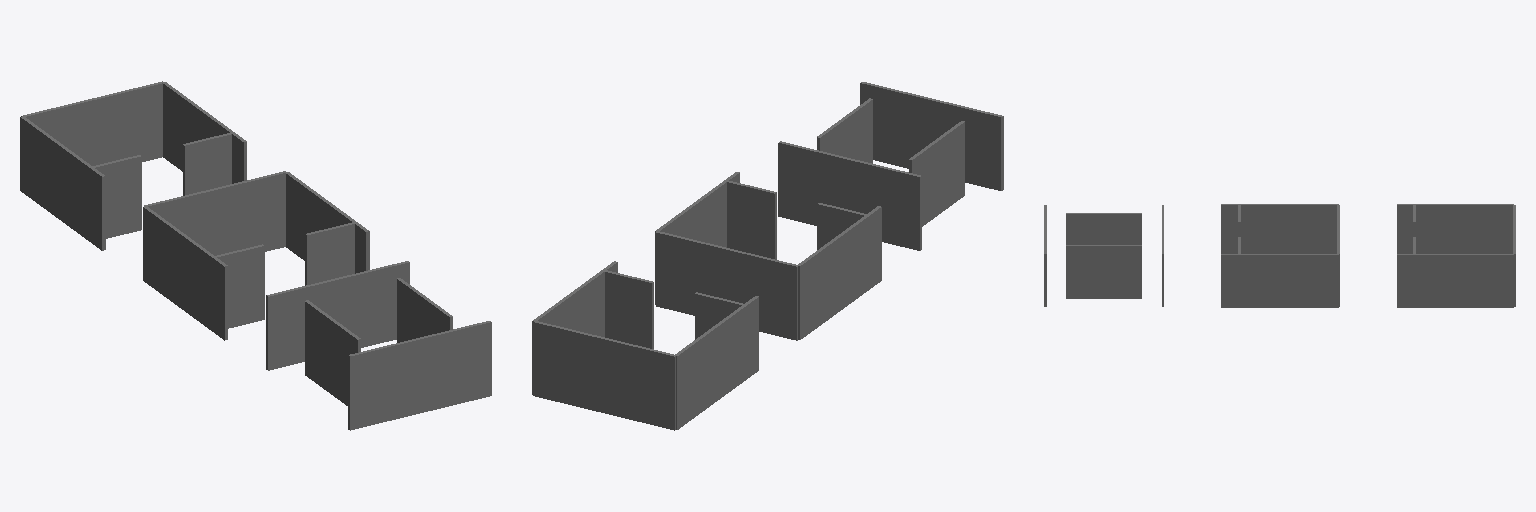
URDF robot description (HouseReconstructed):
<?xml version="1.0" encoding="UTF-8"?>
<robot name="HouseReconstructed">
  <!-- Base link (dummy, invisible, static) -->
  <link name="house_base">
    <inertial>
      <mass value="0"/>
      <inertia ixx="0" ixy="0" ixz="0" iyy="0" iyz="0" izz="0"/>
    </inertial>
  </link>

  <!-- Room 1: Walls (2m x 2m, centered at (0, 0)) -->
  <link name="room1_north_wall">
    <visual>
      <geometry>
        <box size="2.0 0.05 1.0"/>
      </geometry>
      <material name="grey">
        <color rgba="0.5 0.5 0.5 1"/>
      </material>
    </visual>
    <collision>
      <geometry>
        <box size="2.0 0.05 1.0"/>
      </geometry>
    </collision>
    <inertial>
      <mass value="0"/>
      <inertia ixx="0" ixy="0" ixz="0" iyy="0" iyz="0" izz="0"/>
    </inertial>
  </link>
  <joint name="room1_north_wall_joint" type="fixed">
    <parent link="house_base"/>
    <child link="room1_north_wall"/>
    <origin xyz="0 1 0.5" rpy="0 0 0"/>
  </joint>
  <link name="room1_south_wall">
    <visual>
      <geometry>
        <box size="2.0 0.05 1.0"/>
      </geometry>
      <material name="grey">
        <color rgba="0.5 0.5 0.5 1"/>
      </material>
    </visual>
    <collision>
      <geometry>
        <box size="2.0 0.05 1.0"/>
      </geometry>
    </collision>
    <inertial>
      <mass value="0"/>
      <inertia ixx="0" ixy="0" ixz="0" iyy="0" iyz="0" izz="0"/>
    </inertial>
  </link>
  <joint name="room1_south_wall_joint" type="fixed">
    <parent link="house_base"/>
    <child link="room1_south_wall"/>
    <origin xyz="0 -1 0.5" rpy="0 0 0"/>
  </joint>
  <link name="room1_west_wall_left">
    <visual>
      <geometry>
        <box size="0.7 0.05 1.0"/>
      </geometry>
      <material name="grey">
        <color rgba="0.5 0.5 0.5 1"/>
      </material>
    </visual>
    <collision>
      <geometry>
        <box size="0.7 0.05 1.0"/>
      </geometry>
    </collision>
    <inertial>
      <mass value="0"/>
      <inertia ixx="0" ixy="0" ixz="0" iyy="0" iyz="0" izz="0"/>
    </inertial>
  </link>
  <joint name="room1_west_wall_left_joint" type="fixed">
    <parent link="house_base"/>
    <child link="room1_west_wall_left"/>
    <origin xyz="-0.65 -0.3 0.5" rpy="0 0 1.57"/>
  </joint>
  <link name="room1_west_wall_right">
    <visual>
      <geometry>
        <box size="0.7 0.05 1.0"/>
      </geometry>
      <material name="grey">
        <color rgba="0.5 0.5 0.5 1"/>
      </material>
    </visual>
    <collision>
      <geometry>
        <box size="0.7 0.05 1.0"/>
      </geometry>
    </collision>
    <inertial>
      <mass value="0"/>
      <inertia ixx="0" ixy="0" ixz="0" iyy="0" iyz="0" izz="0"/>
    </inertial>
  </link>
  <joint name="room1_west_wall_right_joint" type="fixed">
    <parent link="house_base"/>
    <child link="room1_west_wall_right"/>
    <origin xyz="-0.65 0.3 0.5" rpy="0 0 1.57"/>
  </joint>
  <link name="room1_east_wall_left">
    <visual>
      <geometry>
        <box size="0.7 0.05 1.0"/>
      </geometry>
      <material name="grey">
        <color rgba="0.5 0.5 0.5 1"/>
      </material>
    </visual>
    <collision>
      <geometry>
        <box size="0.7 0.05 1.0"/>
      </geometry>
    </collision>
    <inertial>
      <mass value="0"/>
      <inertia ixx="0" ixy="0" ixz="0" iyy="0" iyz="0" izz="0"/>
    </inertial>
  </link>
  <joint name="room1_east_wall_left_joint" type="fixed">
    <parent link="house_base"/>
    <child link="room1_east_wall_left"/>
    <origin xyz="0.65 -0.3 0.5" rpy="0 0 1.57"/>
  </joint>
  <link name="room1_east_wall_right">
    <visual>
      <geometry>
        <box size="0.7 0.05 1.0"/>
      </geometry>
      <material name="grey">
        <color rgba="0.5 0.5 0.5 1"/>
      </material>
    </visual>
    <collision>
      <geometry>
        <box size="0.7 0.05 1.0"/>
      </geometry>
    </collision>
    <inertial>
      <mass value="0"/>
      <inertia ixx="0" ixy="0" ixz="0" iyy="0" iyz="0" izz="0"/>
    </inertial>
  </link>
  <joint name="room1_east_wall_right_joint" type="fixed">
    <parent link="house_base"/>
    <child link="room1_east_wall_right"/>
    <origin xyz="0.65 0.3 0.5" rpy="0 0 1.57"/>
  </joint>

  <!-- Room 2: Walls (2m x 2m, centered at (0, 3)) -->
  <link name="room2_north_wall">
    <visual>
      <geometry>
        <box size="2.0 0.05 1.0"/>
      </geometry>
      <material name="grey">
        <color rgba="0.5 0.5 0.5 1"/>
      </material>
    </visual>
    <collision>
      <geometry>
        <box size="2.0 0.05 1.0"/>
      </geometry>
    </collision>
    <inertial>
      <mass value="0"/>
      <inertia ixx="0" ixy="0" ixz="0" iyy="0" iyz="0" izz="0"/>
    </inertial>
  </link>
  <joint name="room2_north_wall_joint" type="fixed">
    <parent link="house_base"/>
    <child link="room2_north_wall"/>
    <origin xyz="0 4 0.5" rpy="0 0 0"/>
  </joint>
  <link name="room2_south_wall_left">
    <visual>
      <geometry>
        <box size="0.7 0.05 1.0"/>
      </geometry>
      <material name="grey">
        <color rgba="0.5 0.5 0.5 1"/>
      </material>
    </visual>
    <collision>
      <geometry>
        <box size="0.7 0.05 1.0"/>
      </geometry>
    </collision>
    <inertial>
      <mass value="0"/>
      <inertia ixx="0" ixy="0" ixz="0" iyy="0" iyz="0" izz="0"/>
    </inertial>
  </link>
  <joint name="room2_south_wall_left_joint" type="fixed">
    <parent link="house_base"/>
    <child link="room2_south_wall_left"/>
    <origin xyz="-0.65 2.3 0.5" rpy="0 0 0"/>
  </joint>
  <link name="room2_south_wall_right">
    <visual>
      <geometry>
        <box size="0.7 0.05 1.0"/>
      </geometry>
      <material name="grey">
        <color rgba="0.5 0.5 0.5 1"/>
      </material>
    </visual>
    <collision>
      <geometry>
        <box size="0.7 0.05 1.0"/>
      </geometry>
    </collision>
    <inertial>
      <mass value="0"/>
      <inertia ixx="0" ixy="0" ixz="0" iyy="0" iyz="0" izz="0"/>
    </inertial>
  </link>
  <joint name="room2_south_wall_right_joint" type="fixed">
    <parent link="house_base"/>
    <child link="room2_south_wall_right"/>
    <origin xyz="0.65 2.3 0.5" rpy="0 0 0"/>
  </joint>
  <link name="room2_west_wall">
    <visual>
      <geometry>
        <box size="2.0 0.05 1.0"/>
      </geometry>
      <material name="grey">
        <color rgba="0.5 0.5 0.5 1"/>
      </material>
    </visual>
    <collision>
      <geometry>
        <box size="2.0 0.05 1.0"/>
      </geometry>
    </collision>
    <inertial>
      <mass value="0"/>
      <inertia ixx="0" ixy="0" ixz="0" iyy="0" iyz="0" izz="0"/>
    </inertial>
  </link>
  <joint name="room2_west_wall_joint" type="fixed">
    <parent link="house_base"/>
    <child link="room2_west_wall"/>
    <origin xyz="-1 3 0.5" rpy="0 0 1.57"/>
  </joint>
  <link name="room2_east_wall">
    <visual>
      <geometry>
        <box size="2.0 0.05 1.0"/>
      </geometry>
      <material name="grey">
        <color rgba="0.5 0.5 0.5 1"/>
      </material>
    </visual>
    <collision>
      <geometry>
        <box size="2.0 0.05 1.0"/>
      </geometry>
    </collision>
    <inertial>
      <mass value="0"/>
      <inertia ixx="0" ixy="0" ixz="0" iyy="0" iyz="0" izz="0"/>
    </inertial>
  </link>
  <joint name="room2_east_wall_joint" type="fixed">
    <parent link="house_base"/>
    <child link="room2_east_wall"/>
    <origin xyz="1 3 0.5" rpy="0 0 1.57"/>
  </joint>

  <!-- Room 3: Walls (2m x 2m, centered at (0, 6)) -->
  <link name="room3_north_wall">
    <visual>
      <geometry>
        <box size="2.0 0.05 1.0"/>
      </geometry>
      <material name="grey">
        <color rgba="0.5 0.5 0.5 1"/>
      </material>
    </visual>
    <collision>
      <geometry>
        <box size="2.0 0.05 1.0"/>
      </geometry>
    </collision>
    <inertial>
      <mass value="0"/>
      <inertia ixx="0" ixy="0" ixz="0" iyy="0" iyz="0" izz="0"/>
    </inertial>
  </link>
  <joint name="room3_north_wall_joint" type="fixed">
    <parent link="house_base"/>
    <child link="room3_north_wall"/>
    <origin xyz="0 7 0.5" rpy="0 0 0"/>
  </joint>
  <link name="room3_south_wall_left">
    <visual>
      <geometry>
        <box size="0.7 0.05 1.0"/>
      </geometry>
      <material name="grey">
        <color rgba="0.5 0.5 0.5 1"/>
      </material>
    </visual>
    <collision>
      <geometry>
        <box size="0.7 0.05 1.0"/>
      </geometry>
    </collision>
    <inertial>
      <mass value="0"/>
      <inertia ixx="0" ixy="0" ixz="0" iyy="0" iyz="0" izz="0"/>
    </inertial>
  </link>
  <joint name="room3_south_wall_left_joint" type="fixed">
    <parent link="house_base"/>
    <child link="room3_south_wall_left"/>
    <origin xyz="-0.65 5.3 0.5" rpy="0 0 0"/>
  </joint>
  <link name="room3_south_wall_right">
    <visual>
      <geometry>
        <box size="0.7 0.05 1.0"/>
      </geometry>
      <material name="grey">
        <color rgba="0.5 0.5 0.5 1"/>
      </material>
    </visual>
    <collision>
      <geometry>
        <box size="0.7 0.05 1.0"/>
      </geometry>
    </collision>
    <inertial>
      <mass value="0"/>
      <inertia ixx="0" ixy="0" ixz="0" iyy="0" iyz="0" izz="0"/>
    </inertial>
  </link>
  <joint name="room3_south_wall_right_joint" type="fixed">
    <parent link="house_base"/>
    <child link="room3_south_wall_right"/>
    <origin xyz="0.65 5.3 0.5" rpy="0 0 0"/>
  </joint>
  <link name="room3_west_wall">
    <visual>
      <geometry>
        <box size="2.0 0.05 1.0"/>
      </geometry>
      <material name="grey">
        <color rgba="0.5 0.5 0.5 1"/>
      </material>
    </visual>
    <collision>
      <geometry>
        <box size="2.0 0.05 1.0"/>
      </geometry>
    </collision>
    <inertial>
      <mass value="0"/>
      <inertia ixx="0" ixy="0" ixz="0" iyy="0" iyz="0" izz="0"/>
    </inertial>
  </link>
  <joint name="room3_west_wall_joint" type="fixed">
    <parent link="house_base"/>
    <child link="room3_west_wall"/>
    <origin xyz="-1 6 0.5" rpy="0 0 1.57"/>
  </joint>
  <link name="room3_east_wall">
    <visual>
      <geometry>
        <box size="2.0 0.05 1.0"/>
      </geometry>
      <material name="grey">
        <color rgba="0.5 0.5 0.5 1"/>
      </material>
    </visual>
    <collision>
      <geometry>
        <box size="2.0 0.05 1.0"/>
      </geometry>
    </collision>
    <inertial>
      <mass value="0"/>
      <inertia ixx="0" ixy="0" ixz="0" iyy="0" iyz="0" izz="0"/>
    </inertial>
  </link>
  <joint name="room3_east_wall_joint" type="fixed">
    <parent link="house_base"/>
    <child link="room3_east_wall"/>
    <origin xyz="1 6 0.5" rpy="0 0 1.57"/>
  </joint>
</robot>

--- Render facts (derived) ---
3 views of the same robot in one strip: view 1: azimuth 30°, elevation 25°; view 2: azimuth 150°, elevation 25°; view 3: azimuth 270°, elevation 25° (orthographic).
Robot: HouseReconstructed — 17 links, 16 joints (16 fixed); root link house_base; default pose: every joint at zero.
Visible links, largest first — view 1: room1_south_wall, room1_north_wall, room2_north_wall, room3_north_wall, room3_west_wall, room2_west_wall, room3_east_wall, room2_east_wall, room2_south_wall_left, room3_south_wall_left, room2_south_wall_right, room3_south_wall_right (+4 smaller); view 2: room3_north_wall, room1_north_wall, room2_north_wall, room1_south_wall, room2_west_wall, room3_west_wall, room2_south_wall_right, room3_south_wall_right, room3_east_wall, room2_east_wall, room1_west_wall_left, room1_west_wall_right (+4 smaller); view 3: room2_east_wall, room3_east_wall, room2_west_wall, room3_west_wall, room1_east_wall_left, room1_east_wall_right, room1_west_wall_left, room1_west_wall_right.
Link boxes in pixels (x1=…): room1_south_wall: x1=348, y1=321, x2=491, y2=430; room1_north_wall: x1=266, y1=261, x2=409, y2=370; room2_north_wall: x1=144, y1=171, x2=285, y2=255; room3_north_wall: x1=21, y1=81, x2=163, y2=165; room3_west_wall: x1=20, y1=117, x2=105, y2=250; room2_west_wall: x1=143, y1=206, x2=227, y2=340; room3_east_wall: x1=163, y1=82, x2=246, y2=183; room2_east_wall: x1=285, y1=172, x2=369, y2=273; room2_south_wall_left: x1=213, y1=244, x2=264, y2=328; room3_south_wall_left: x1=92, y1=155, x2=141, y2=238; room2_south_wall_right: x1=305, y1=222, x2=355, y2=285; room3_south_wall_right: x1=183, y1=132, x2=232, y2=195; room3_north_wall: x1=533, y1=321, x2=675, y2=430; room1_north_wall: x1=778, y1=141, x2=921, y2=250; room2_north_wall: x1=656, y1=231, x2=798, y2=340; room1_south_wall: x1=860, y1=82, x2=1003, y2=190; room2_west_wall: x1=798, y1=206, x2=881, y2=339; room3_west_wall: x1=675, y1=296, x2=758, y2=429; room2_south_wall_right: x1=727, y1=180, x2=776, y2=259; room3_south_wall_right: x1=604, y1=270, x2=653, y2=348; room3_east_wall: x1=532, y1=261, x2=617, y2=394; room2_east_wall: x1=655, y1=172, x2=739, y2=304; room1_west_wall_left: x1=937, y1=121, x2=964, y2=212; room1_west_wall_right: x1=909, y1=139, x2=940, y2=226; room2_east_wall: x1=1221, y1=254, x2=1338, y2=307; room3_east_wall: x1=1397, y1=254, x2=1513, y2=307; room2_west_wall: x1=1221, y1=204, x2=1338, y2=253; room3_west_wall: x1=1397, y1=204, x2=1513, y2=253; room1_east_wall_left: x1=1066, y1=245, x2=1106, y2=298; room1_east_wall_right: x1=1103, y1=245, x2=1141, y2=298; room1_west_wall_left: x1=1066, y1=213, x2=1106, y2=244; room1_west_wall_right: x1=1102, y1=213, x2=1141, y2=244.
Size in the robot's own frame: 2.05 by 8.05 by 1 metres.
Geometry: primitives only (box / cylinder / sphere), no mesh files.